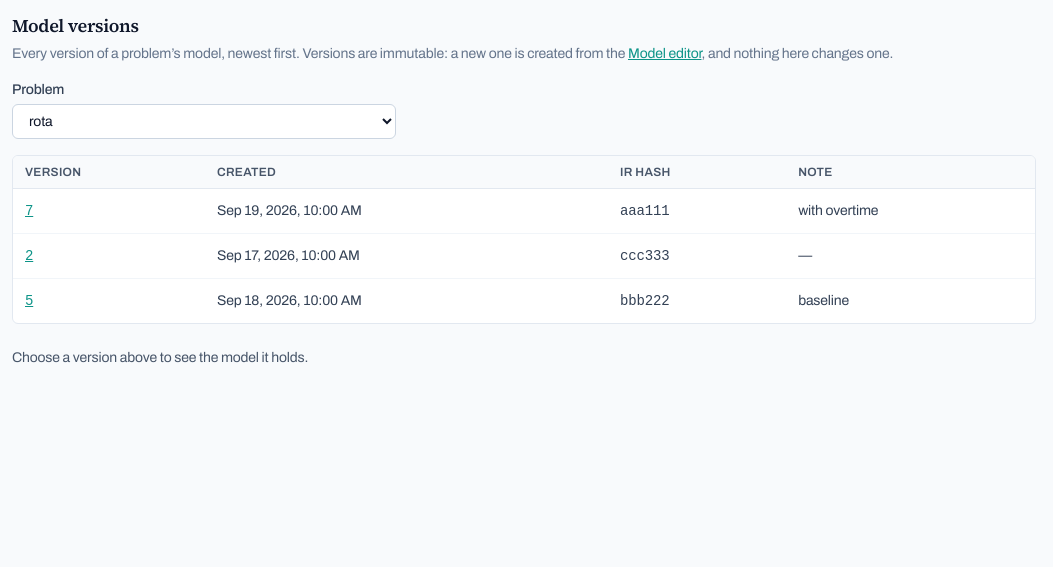
it: ModelVersions: the IR viewer › fetches and shows one version's IR as formatted JSON
Click the button named "version 7".
click(29, 211)  # box top-left (25, 197), bottom-right (33, 225)
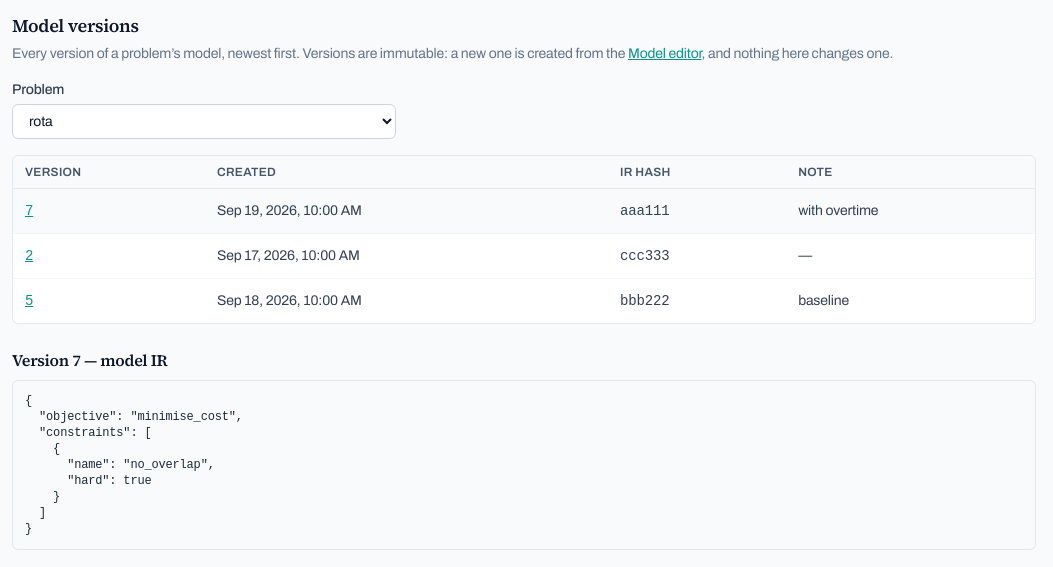
Check: the text with test id "version-ir" shows "no_overlap", box top-left (25, 394), bottom-right (243, 536)
Check: the text with test id "version-ir" shows "\"objective\": \"minimise_cost\"", box top-left (25, 394), bottom-right (243, 536)
